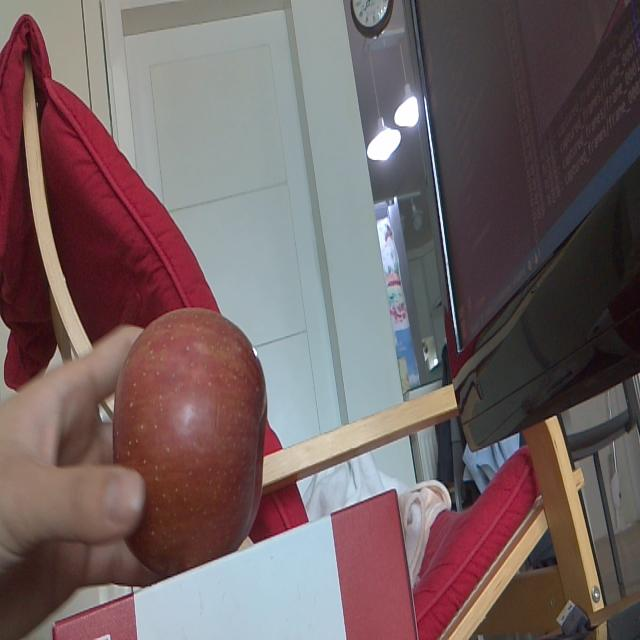apple: (109, 308, 268, 574)
